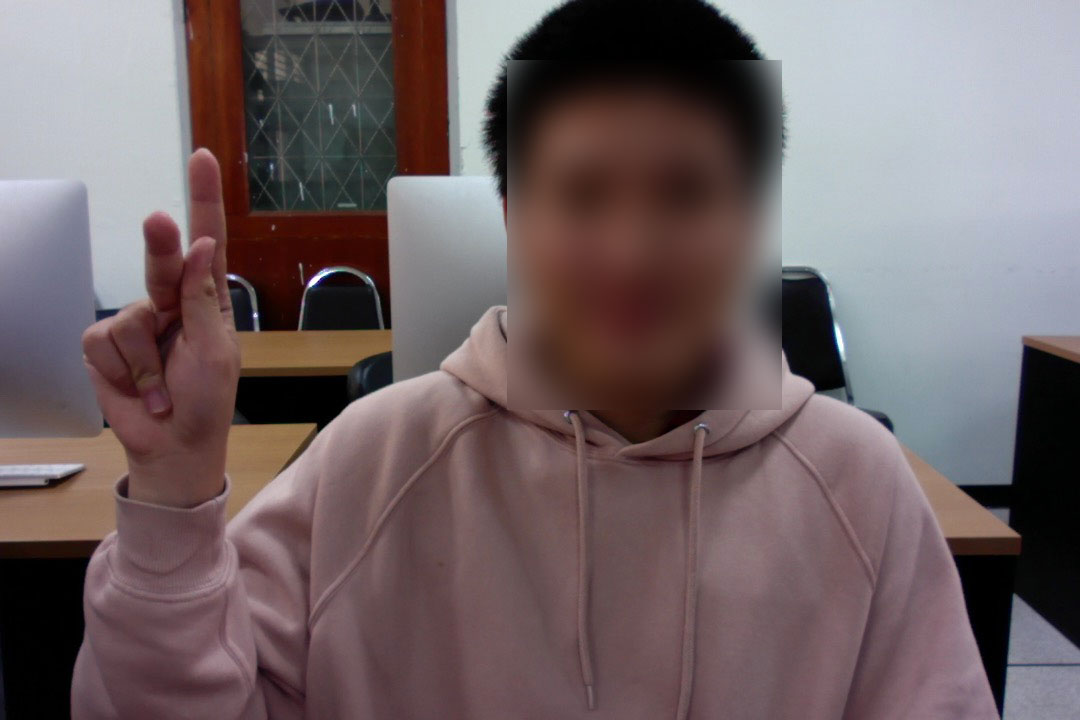ko: (71, 141, 247, 483)
